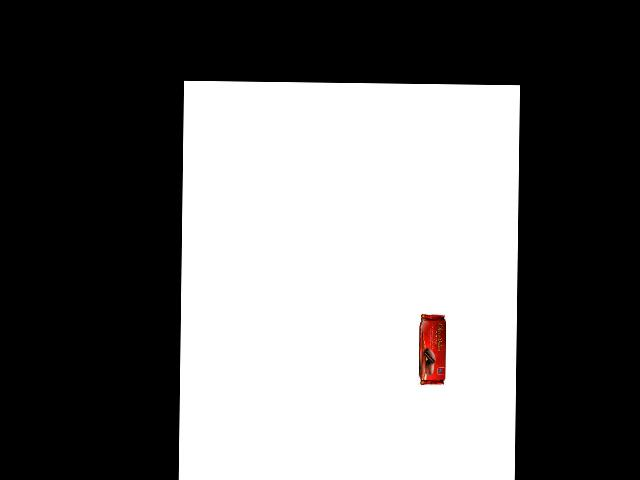chocolate: (412, 313, 446, 386)
